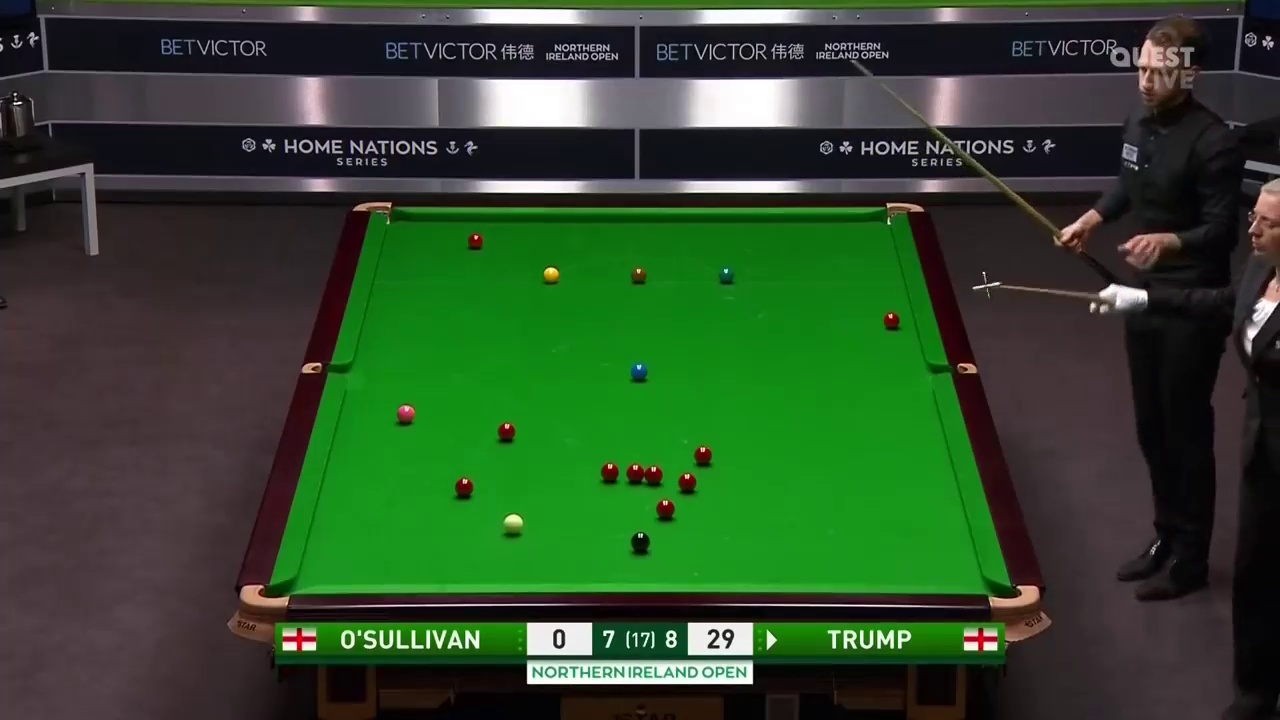black: (630, 532, 650, 553)
blue: (631, 363, 650, 382)
brown: (630, 268, 648, 284)
green: (719, 267, 735, 283)
pink: (398, 405, 414, 422)
red: (678, 473, 697, 496), (693, 446, 713, 466), (645, 465, 662, 488), (454, 477, 473, 497), (495, 423, 516, 441), (657, 499, 674, 521), (883, 314, 900, 331), (601, 463, 617, 481), (626, 463, 641, 482), (469, 234, 482, 249)
white: (501, 513, 523, 536)
yellow: (542, 267, 560, 282)
